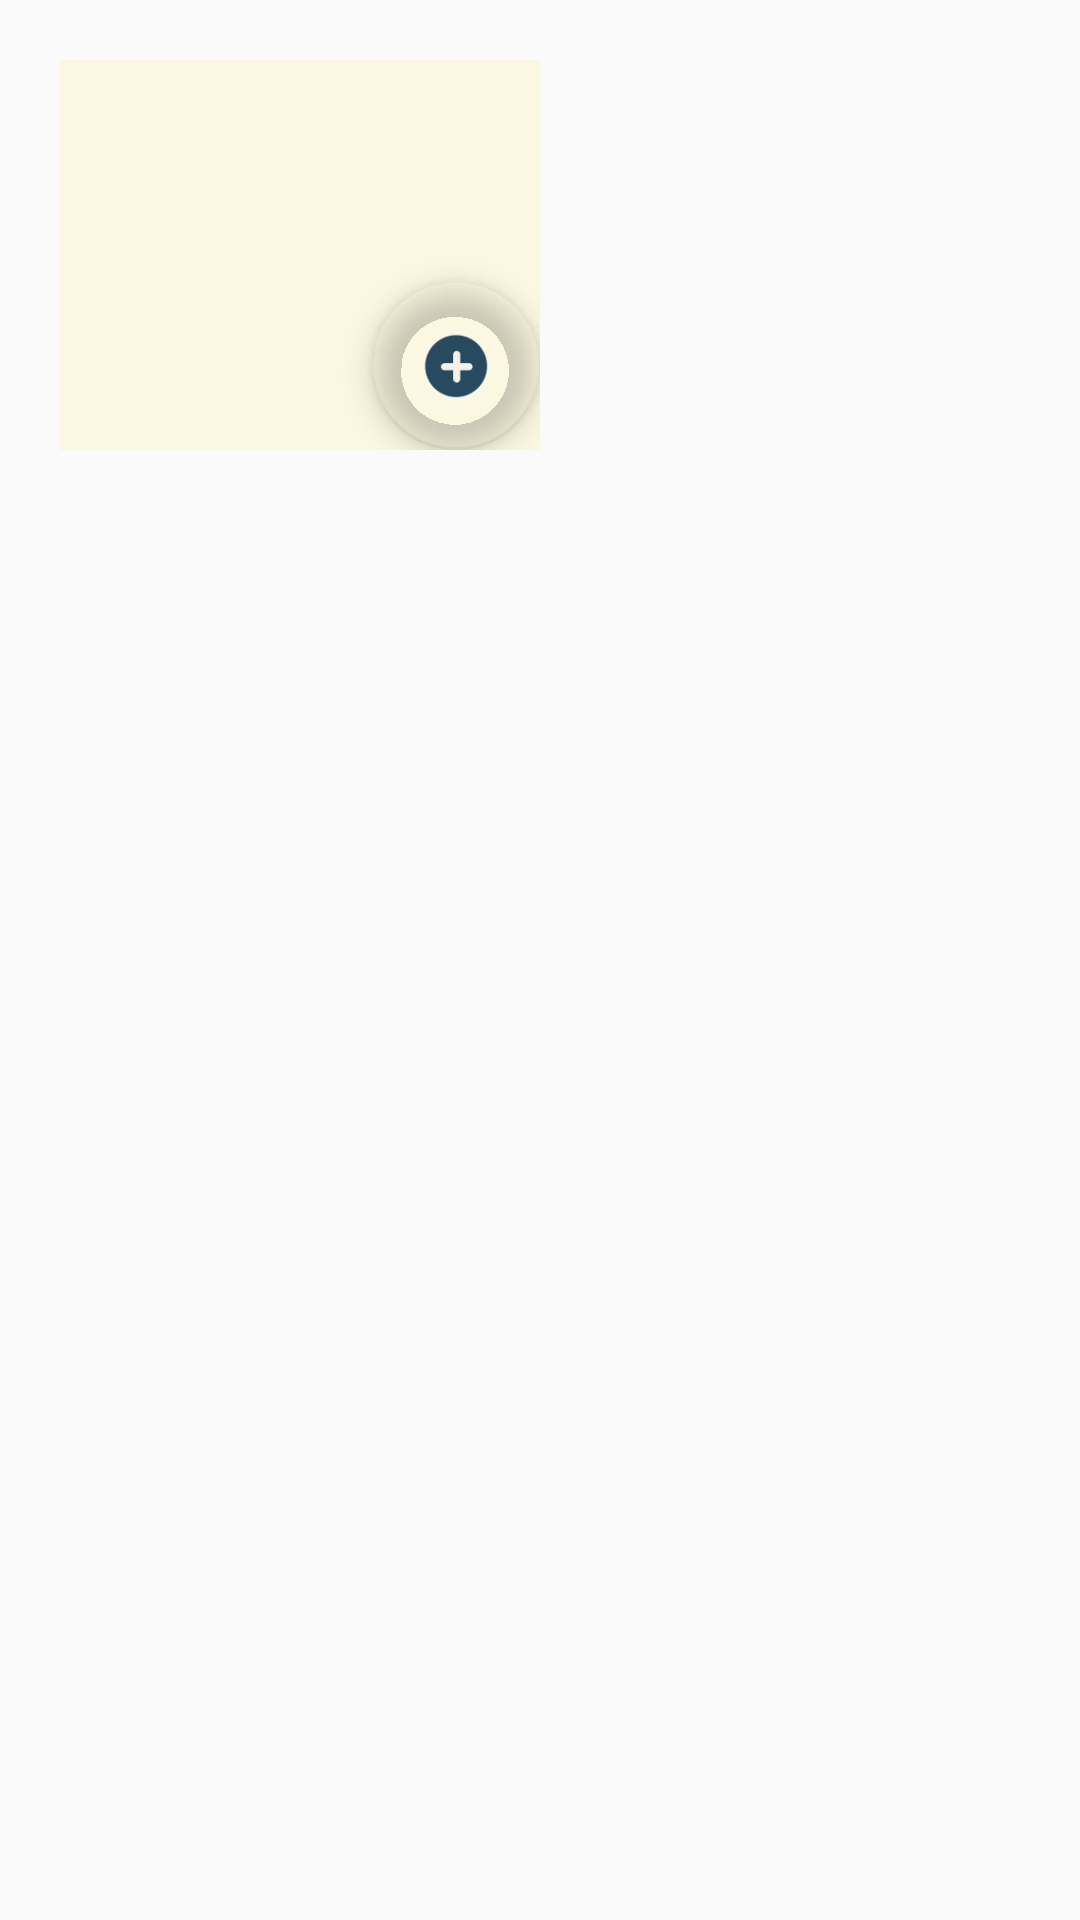

Screen size 1080w x 1920h. Icon name, then its box in pixels as (x1, y1, x2, y2):
mas: (372, 294, 540, 450)
